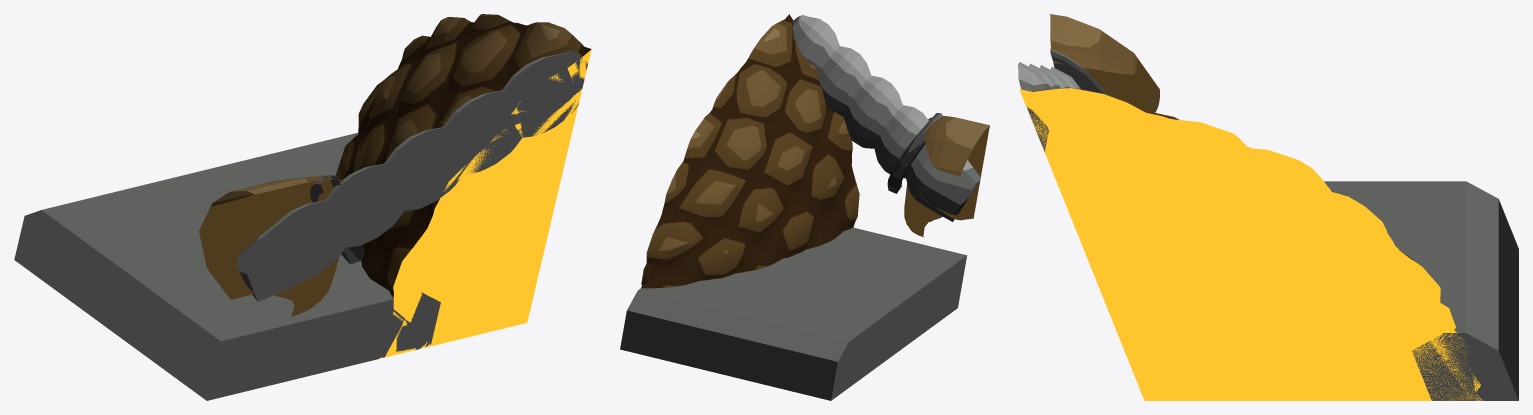
File: pineapple_157.glb
The picture shows the model from 3 angles, left to right: view 1: azimuth 30°, elevation 25°; view 2: azimuth 150°, elevation 25°; view 3: azimuth 270°, elevation 25°; orthographic projection. The views are drawn at different scales.
Parts seen in each view (by area): view 1: pineapple_157; view 2: pineapple_157; view 3: pineapple_157.
Part boxes in pixels (bbox=[...]): pineapple_157: bbox=[14, 14, 591, 400]; pineapple_157: bbox=[620, 14, 989, 400]; pineapple_157: bbox=[1018, 14, 1518, 400].
Bounding box in the file's own units: 24 × 23.22 × 33.45.
